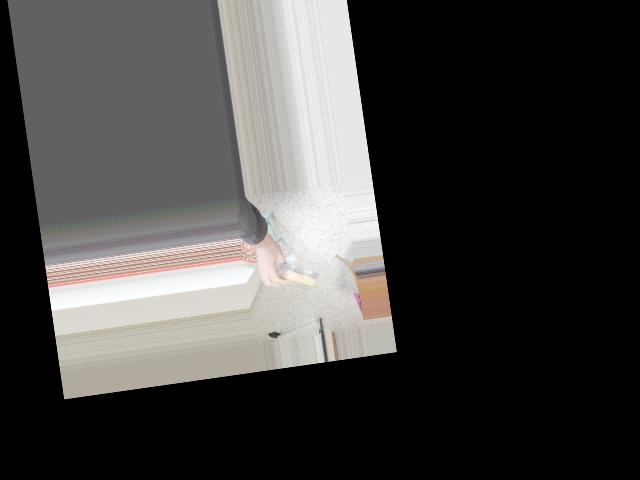cheese: (252, 246, 325, 308)
